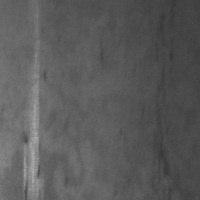scratches: (22, 49, 46, 199)
